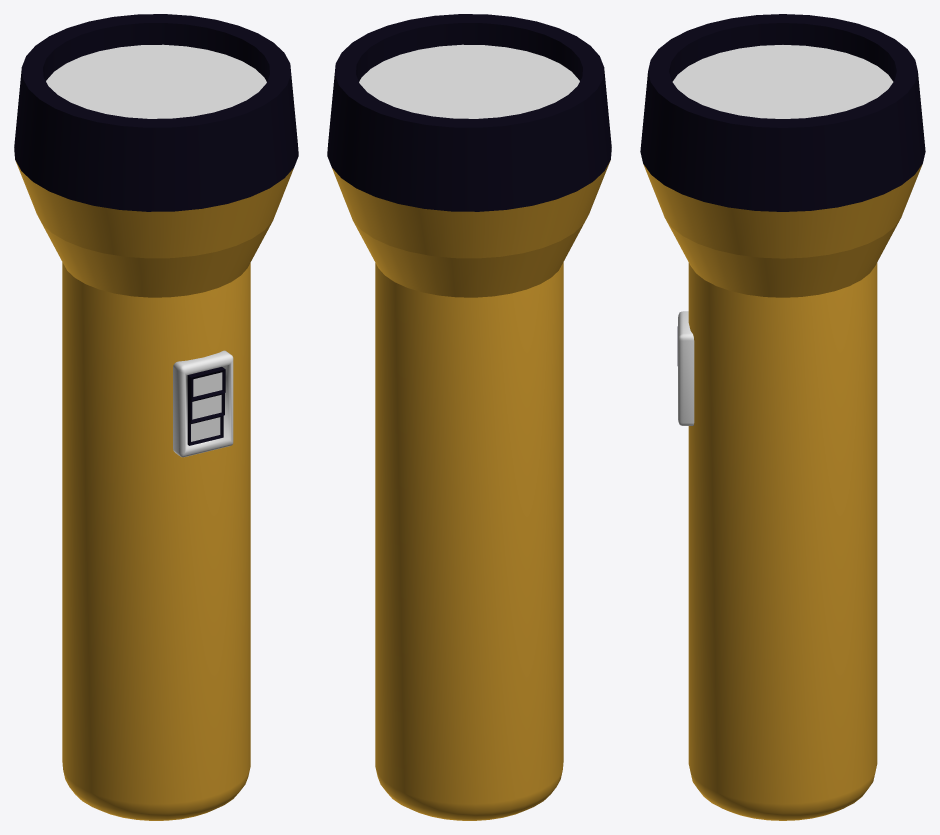
The model's file is Flashlight.fbx.
The picture shows the model from 3 angles, left to right: view 1: azimuth 30°, elevation 25°; view 2: azimuth 150°, elevation 25°; view 3: azimuth 270°, elevation 25°; orthographic projection.
Visible parts, largest first — view 1: Cylinder; view 2: Cylinder; view 3: Cylinder.
Boxes of the visible parts, x1=… form: Cylinder: x1=14, y1=14, x2=298, y2=820; Cylinder: x1=327, y1=14, x2=611, y2=820; Cylinder: x1=640, y1=14, x2=925, y2=820.
Bounding box in the file's own units: 303 × 843 × 303.
